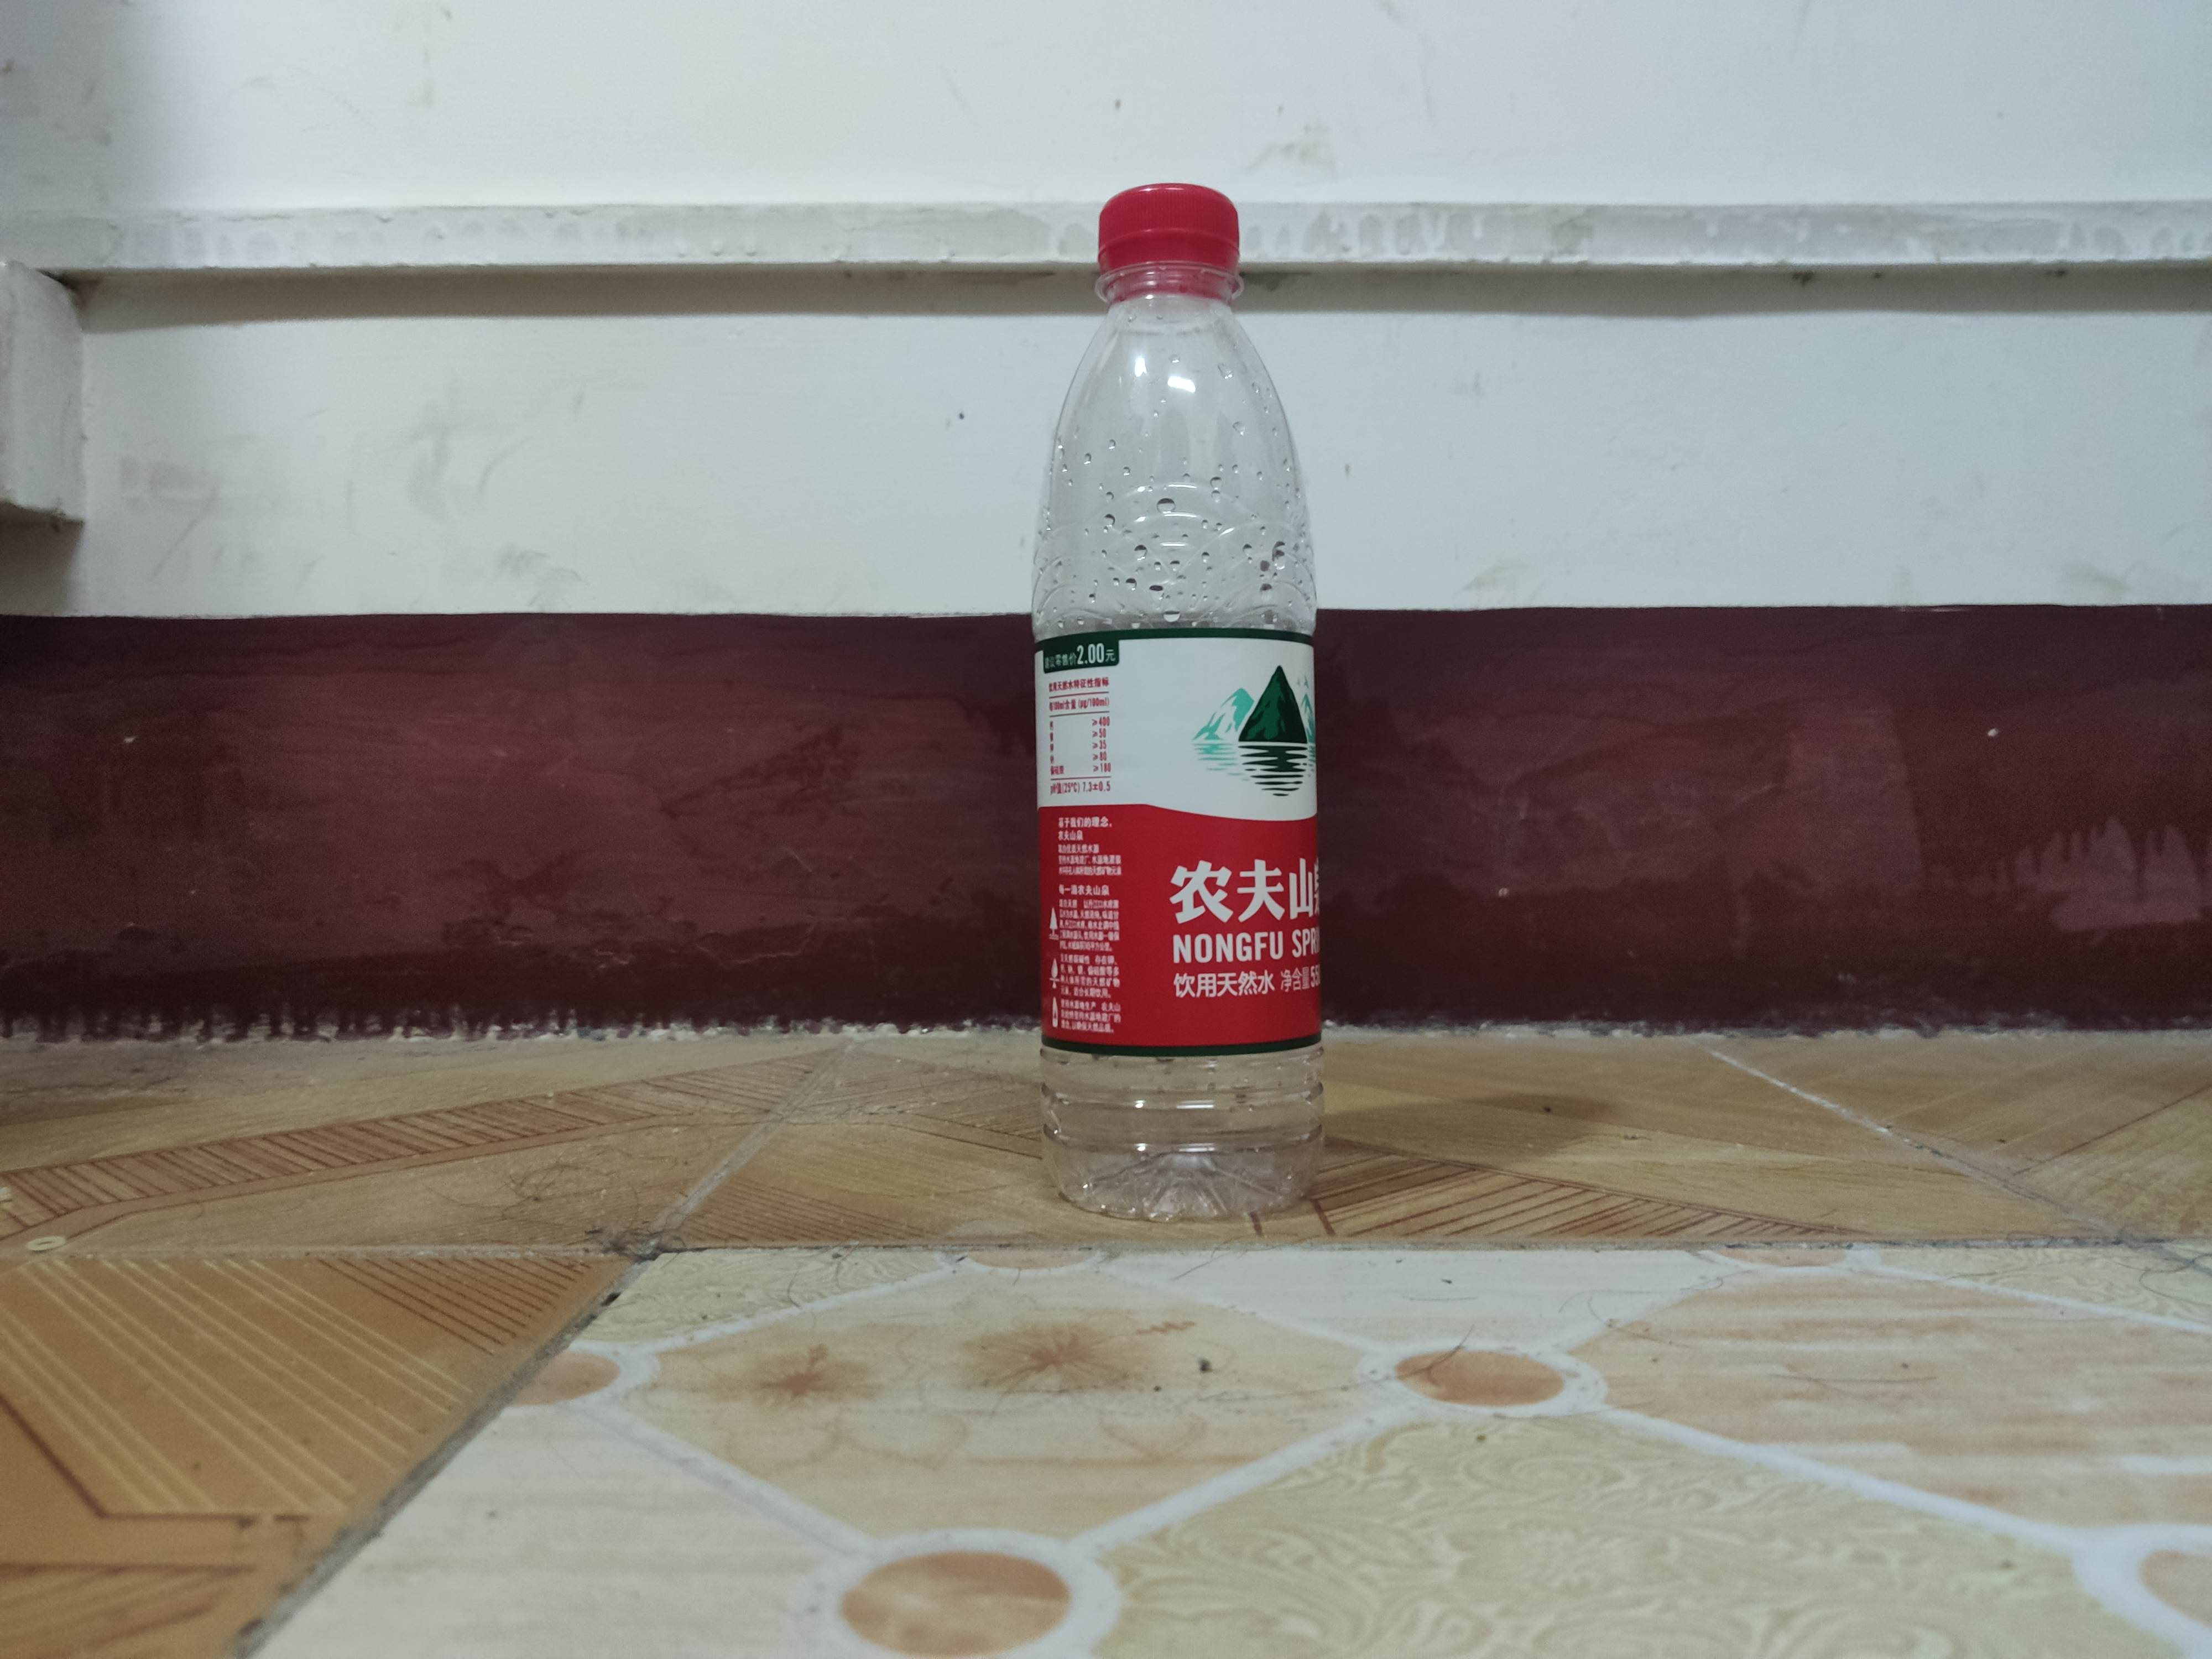Plastic Bottle: (1019, 176, 1332, 1229)
